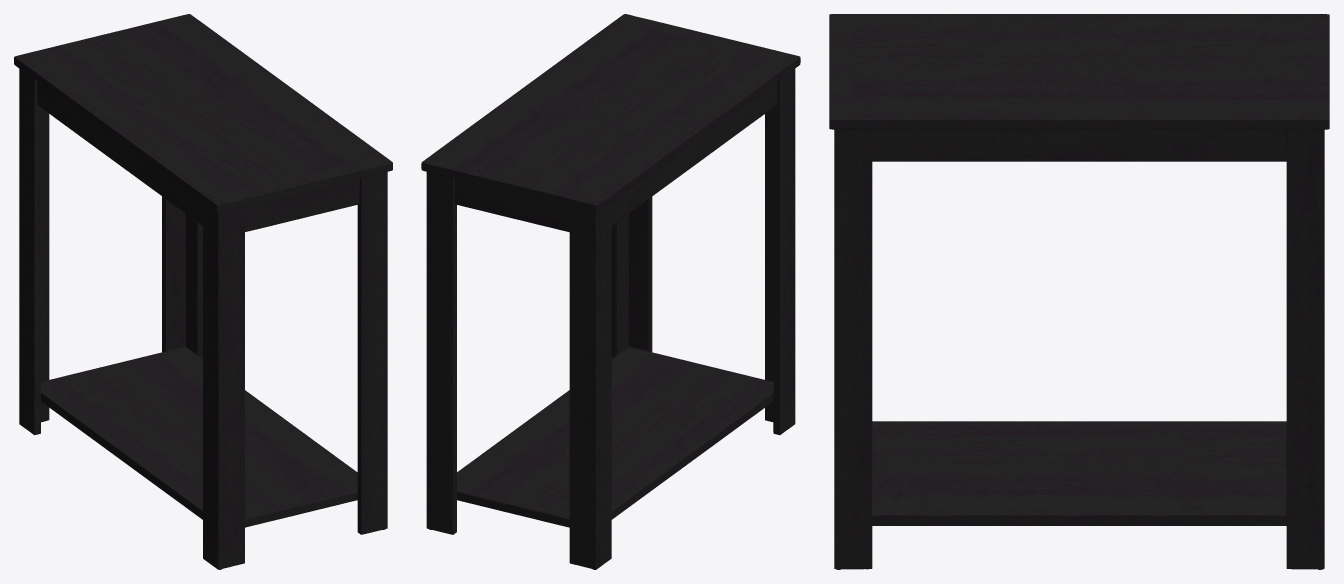
File: LMDW1049_v6_LOD2.obj
3 renders of one model, left to right at view 1: azimuth 30°, elevation 25°; view 2: azimuth 150°, elevation 25°; view 3: azimuth 270°, elevation 25°, orthographic. The views are drawn at different scales.
Visible parts, largest first — view 1: not_clear_obj_0_v6; view 2: not_clear_obj_0_v6; view 3: not_clear_obj_0_v6.
Boxes of the visible parts, x1,y1,x2,y2 form: not_clear_obj_0_v6: (14, 14, 392, 569); not_clear_obj_0_v6: (421, 14, 800, 569); not_clear_obj_0_v6: (829, 14, 1329, 569).
Size of what is drawn, in the model's own units: 30.48 by 60.93 by 60.96.
1 material, 1 textured.
